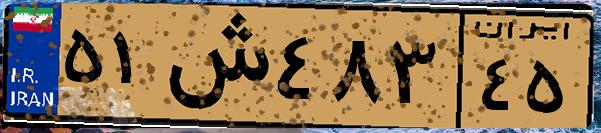1: (110, 28, 158, 98)
3: (385, 28, 445, 110)
4: (270, 28, 330, 110), (475, 38, 525, 113)
5: (57, 26, 110, 100), (525, 38, 570, 115)
8: (330, 28, 385, 110)
ش: (158, 12, 270, 120)
